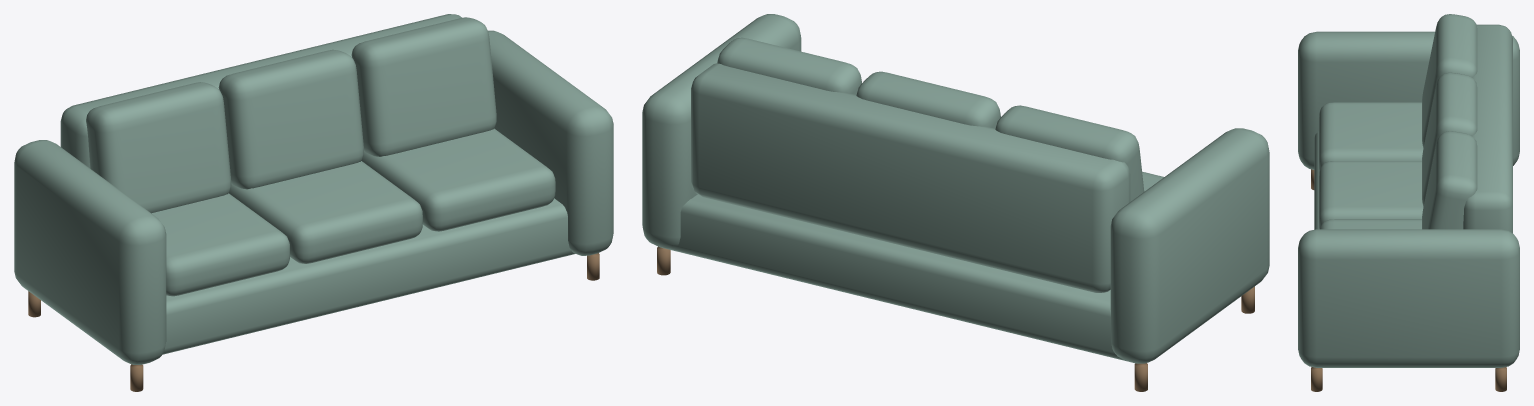
File: sofa.glb
The picture shows the model from 3 angles, left to right: view 1: azimuth 30°, elevation 25°; view 2: azimuth 150°, elevation 25°; view 3: azimuth 270°, elevation 25°; orthographic projection. The views are drawn at different scales.
Visible parts, largest first — view 1: Cube.001, Cube, Cube.009, Cube.007, Cube.002, Cube.005, Cube.008, Cube.006, Cube.004, Cube.003; view 2: Cube.003, Cube.001, Cube, Cube.002, Cube.005, Cube.009, Cube.007; view 3: Cube.002, Cube.001, Cube.003, Cube.004, Cube.006, Cube.009, Cube.007, Cube.005, Cube.008, Cube, Cylinder.002, Cylinder.003.
Part boxes in pixels (box(x1,y1,x2,y2)): Cube.001: box(14, 140, 166, 364); Cube: box(162, 198, 575, 354); Cube.009: box(351, 17, 496, 156); Cube.007: box(218, 49, 363, 189); Cube.002: box(488, 30, 613, 255); Cube.005: box(86, 82, 231, 213); Cube.008: box(361, 128, 555, 231); Cube.006: box(229, 161, 422, 263); Cube.004: box(151, 193, 289, 296); Cube.003: box(60, 14, 462, 167); Cube.003: box(691, 63, 1130, 292); Cube.001: box(1110, 128, 1269, 363); Cube: box(663, 194, 1134, 363); Cube.002: box(642, 14, 801, 249); Cube.005: box(995, 105, 1144, 201); Cube.009: box(717, 37, 861, 94); Cube.007: box(856, 71, 1000, 128); Cube.002: box(1298, 229, 1519, 367); Cube.001: box(1298, 31, 1519, 169); Cube.003: box(1463, 24, 1512, 233); Cube.004: box(1319, 102, 1423, 171); Cube.006: box(1319, 161, 1423, 228); Cube.009: box(1422, 131, 1477, 229); Cube.007: box(1422, 72, 1477, 206); Cube.005: box(1422, 14, 1477, 148); Cube.008: box(1320, 219, 1421, 229); Cube: box(1314, 131, 1319, 229); Cylinder.002: box(1311, 367, 1322, 391); Cylinder.003: box(1495, 367, 1506, 391).
Size of the model in its own units: 2.2 by 0.912 by 0.95.
